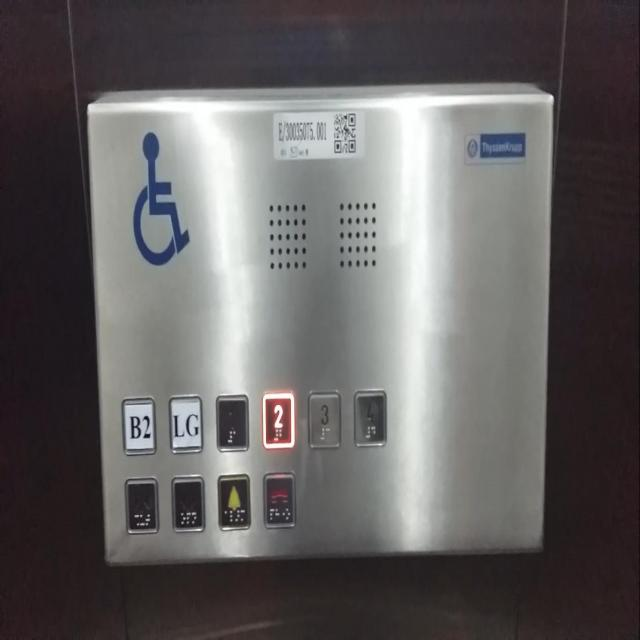2: (261, 390, 295, 448)
3: (307, 390, 341, 448)
4: (353, 389, 387, 447)
B2: (121, 396, 156, 456)
LG: (168, 394, 202, 454)
alarm: (217, 473, 250, 530)
blur: (171, 474, 205, 533), (215, 393, 249, 450)
call: (263, 470, 296, 528)
close: (124, 476, 159, 533)
